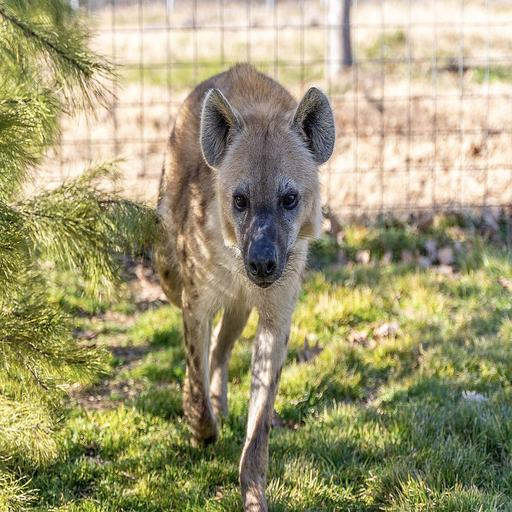Hyena: (138, 60, 340, 512)
